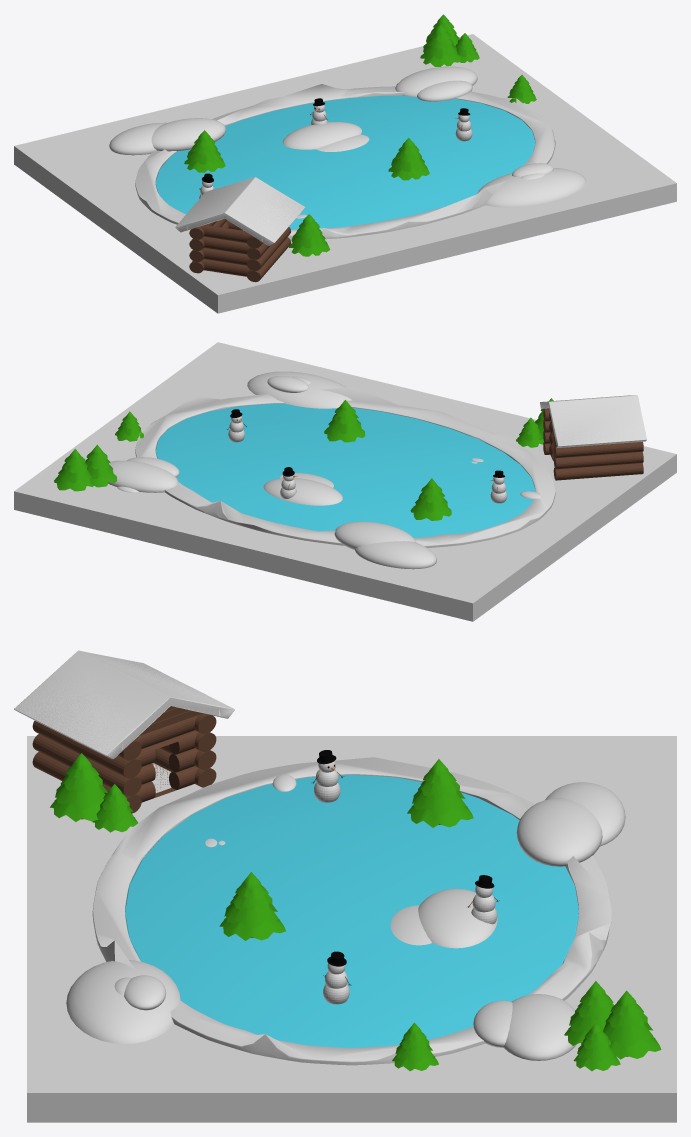
Rendered from arena.glb.
The picture shows the model from 3 angles, top to bottom: view 1: azimuth 30°, elevation 25°; view 2: azimuth 150°, elevation 25°; view 3: azimuth 270°, elevation 25°; orthographic projection. The views are drawn at different scales.
Visible parts, largest first — view 1: Snow_base, Ice_rink, Snow_rim, Cabin_roof_snow, Snow_mound_01.008, Cabin_logs.001, Cabin_logs, Snow_mound_01.005, Snow_mound_01.004, Snow_mound_01.001, Snow_mound_01.007, Leaves (+7 smaller); view 2: Snow_base, Ice_rink, Snow_rim, Cabin_roof_snow, Cabin_logs, Snow_mound_01.008, Snow_mound_01.007, Snow_mound_01.001, Snow_mound_01.005, Snow_mound_01.004, Leaves.001, Leaves (+5 smaller); view 3: Snow_base, Ice_rink, Snow_rim, Cabin_roof_snow, Snow_mound_01.008, Cabin_logs, Snow_mound_01.005, Snow_mound_01.001, Cabin_logs.001, Snow_mound_01.004, Leaves.001, Leaves (+10 smaller).
Boxes of the visible parts, x1,y1,x2,y2 form: Snow_base: (14,34,676,313); Ice_rink: (155,95,535,229); Snow_rim: (135,84,555,240); Cabin_roof_snow: (175,177,305,245); Snow_mound_01.008: (477,168,586,207); Cabin_logs.001: (200,220,251,276); Cabin_logs: (189,218,290,282); Snow_mound_01.005: (151,118,225,151); Snow_mound_01.004: (282,122,361,149); Snow_mound_01.001: (395,66,477,96); Snow_mound_01.007: (109,122,166,155); Leaves: (184,130,225,172); Snow_base: (14,342,676,621); Ice_rink: (155,403,535,537); Snow_rim: (135,387,555,547); Cabin_roof_snow: (540,395,646,447); Cabin_logs: (543,408,643,480); Snow_mound_01.008: (247,371,352,408); Snow_mound_01.007: (354,541,436,569); Snow_mound_01.001: (108,460,178,492); Snow_mound_01.005: (334,521,416,549); Snow_mound_01.004: (263,478,342,505); Leaves.001: (324,400,365,442); Leaves: (410,478,451,520); Snow_base: (27,736,676,1122); Ice_rink: (125,774,578,1047); Snow_rim: (92,757,613,1065); Cabin_roof_snow: (14,650,234,759); Snow_mound_01.008: (66,960,180,1043); Cabin_logs: (32,713,216,813); Snow_mound_01.005: (516,798,602,866); Snow_mound_01.001: (503,994,576,1060); Cabin_logs.001: (134,715,198,802); Snow_mound_01.004: (418,888,497,948); Leaves.001: (219,872,285,940); Leaves: (407,759,473,827).
Size of the model in its own units: 26.35 by 4.52 by 20.4.
